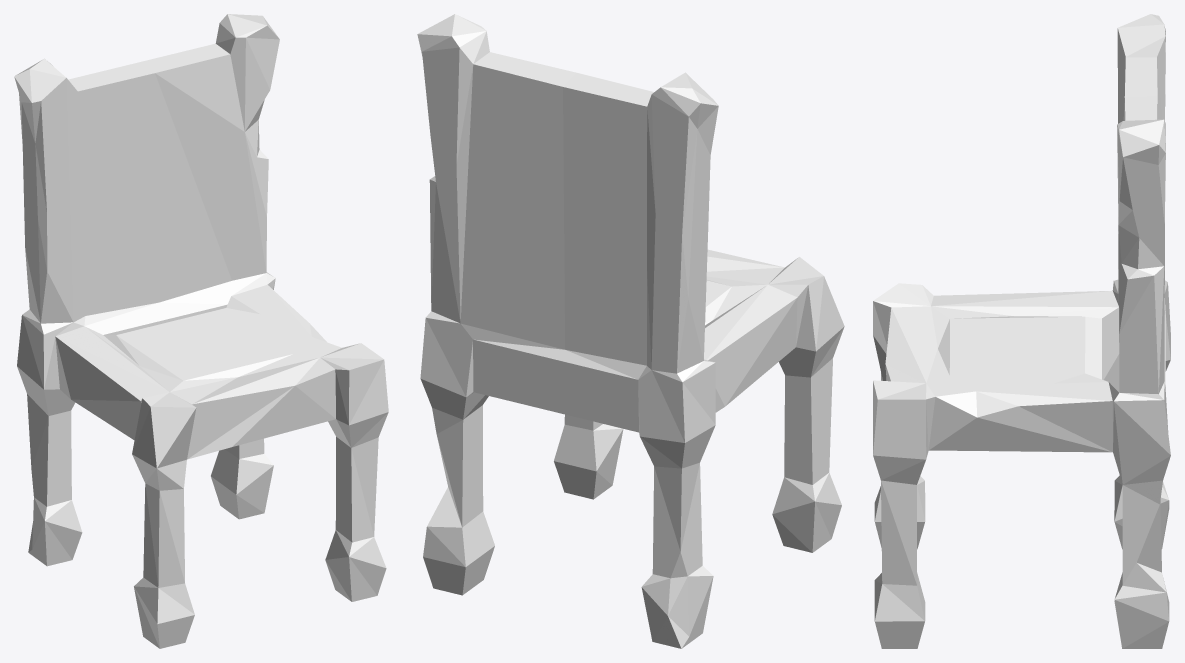
The model's file is Chair.fbx.
3 renders of one model, left to right at view 1: azimuth 30°, elevation 25°; view 2: azimuth 150°, elevation 25°; view 3: azimuth 270°, elevation 25°, orthographic. The views are drawn at different scales.
Parts seen in each view (by area): view 1: Chair 1; view 2: Chair 1; view 3: Chair 1.
Boxes of the visible parts, x1=… form: Chair 1: x1=14, y1=14, x2=388, y2=648; Chair 1: x1=417, y1=14, x2=844, y2=648; Chair 1: x1=873, y1=14, x2=1170, y2=648.
Bounding box in the file's own units: 210 × 394 × 205.
1 material, 1 textured.
